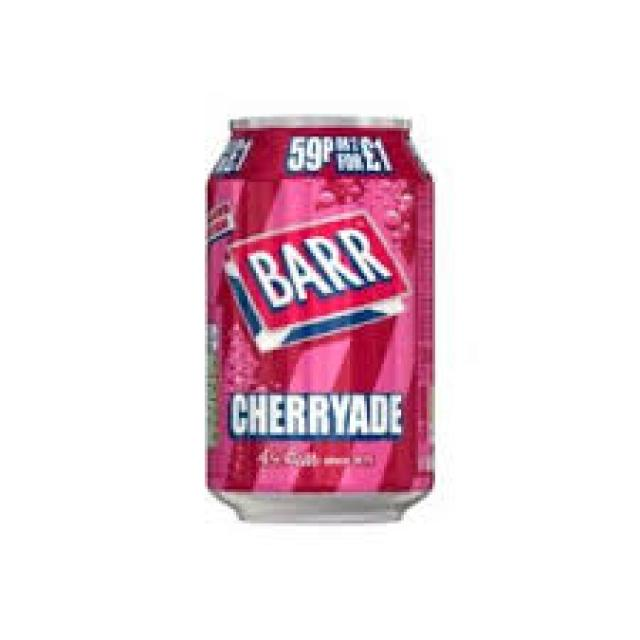Cans: (193, 108, 452, 535)
